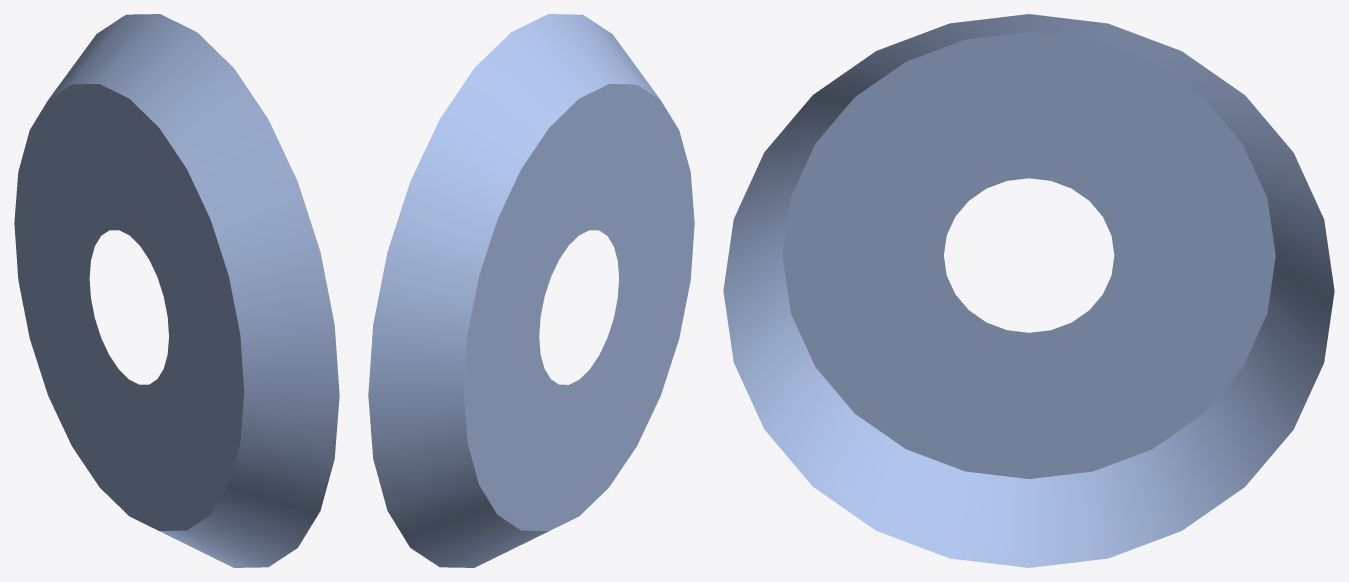
The model's file is original-5.obj.
3 renders of one model, left to right at view 1: azimuth 30°, elevation 25°; view 2: azimuth 150°, elevation 25°; view 3: azimuth 270°, elevation 25°, orthographic. The views are drawn at different scales.
Visible parts, largest first — view 1: #ID257; view 2: #ID257; view 3: #ID257.
Boxes of the visible parts, x1=… form: #ID257: x1=14, y1=14, x2=339, y2=567; #ID257: x1=368, y1=14, x2=694, y2=567; #ID257: x1=723, y1=14, x2=1334, y2=567.
Size of the model in its own units: 0.0246 by 0.1775 by 0.1775.
